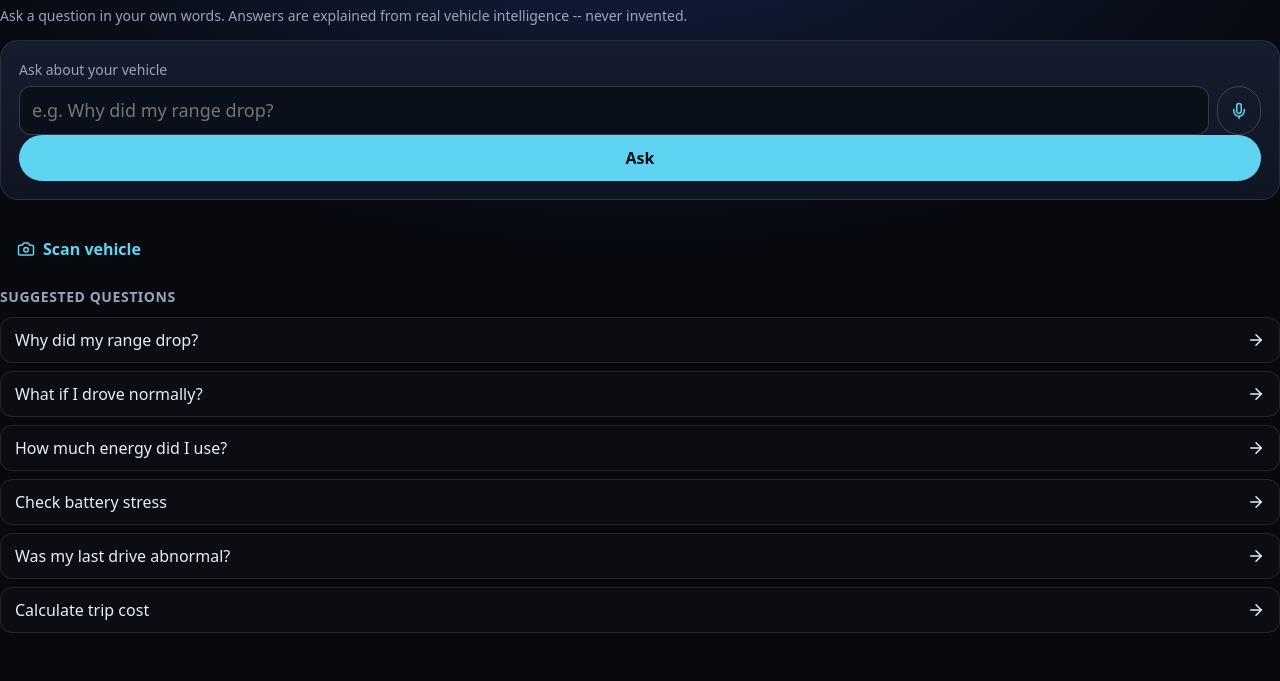
Test: Ask page › records the exchange in recent conversation after answering
Type "Why did my range drop?" into the field labelled "Ask about your vehicle". click: (614, 110)
box: left=19, top=86, right=1209, bottom=135
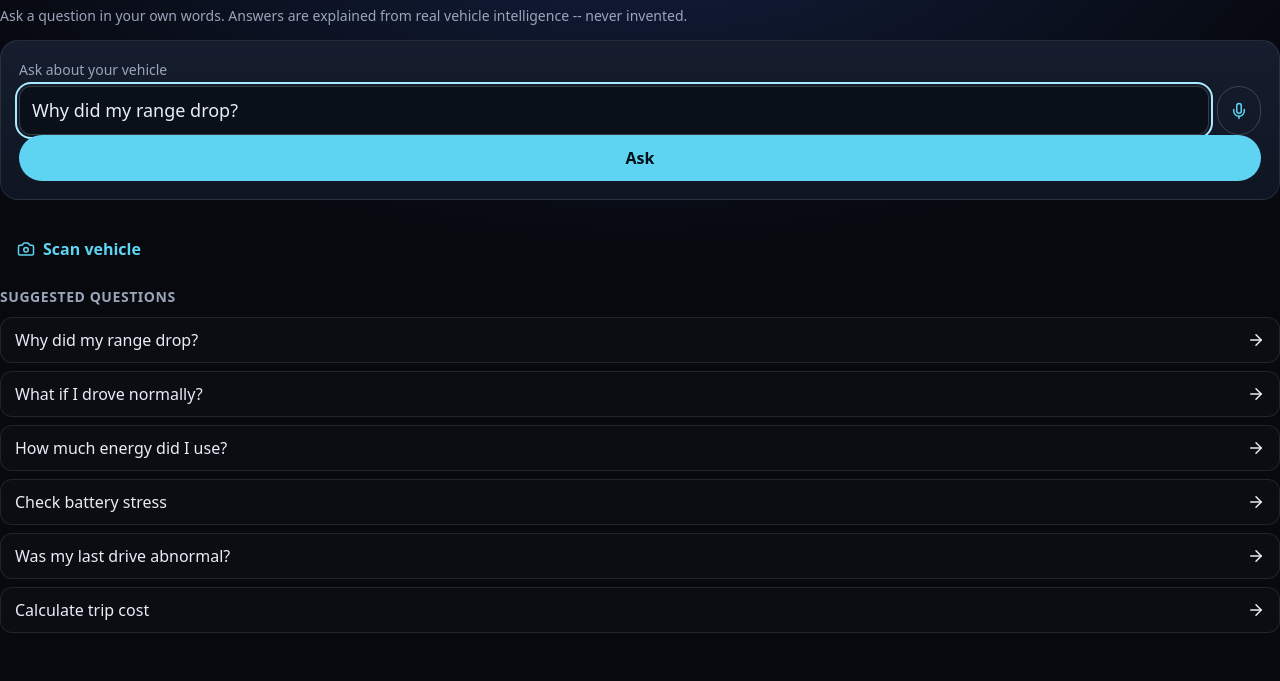
Click the button "Ask". click: (640, 158)
box: left=19, top=135, right=1261, bottom=181
(page scrolled)
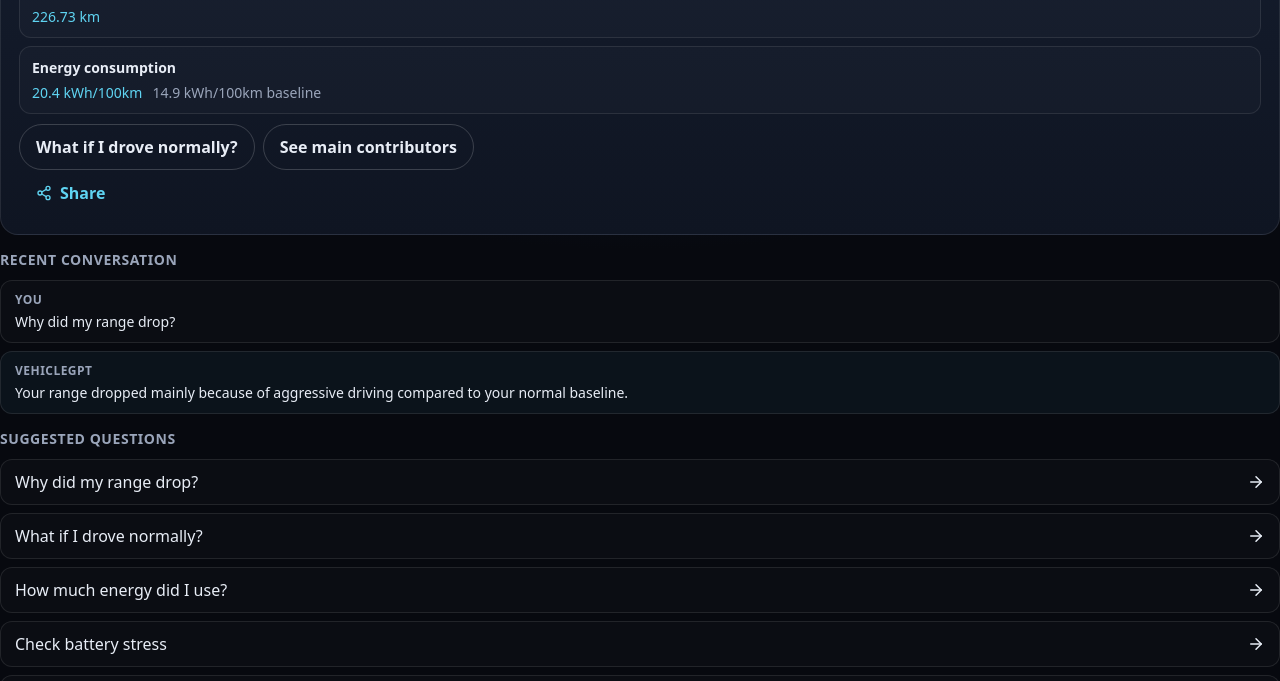
Now the heading "Recent conversation" is shown, box left=0, top=250, right=177, bottom=268
Now the text "Why did my range drop?" below "Recent conversation" is shown, box left=15, top=312, right=175, bottom=330
